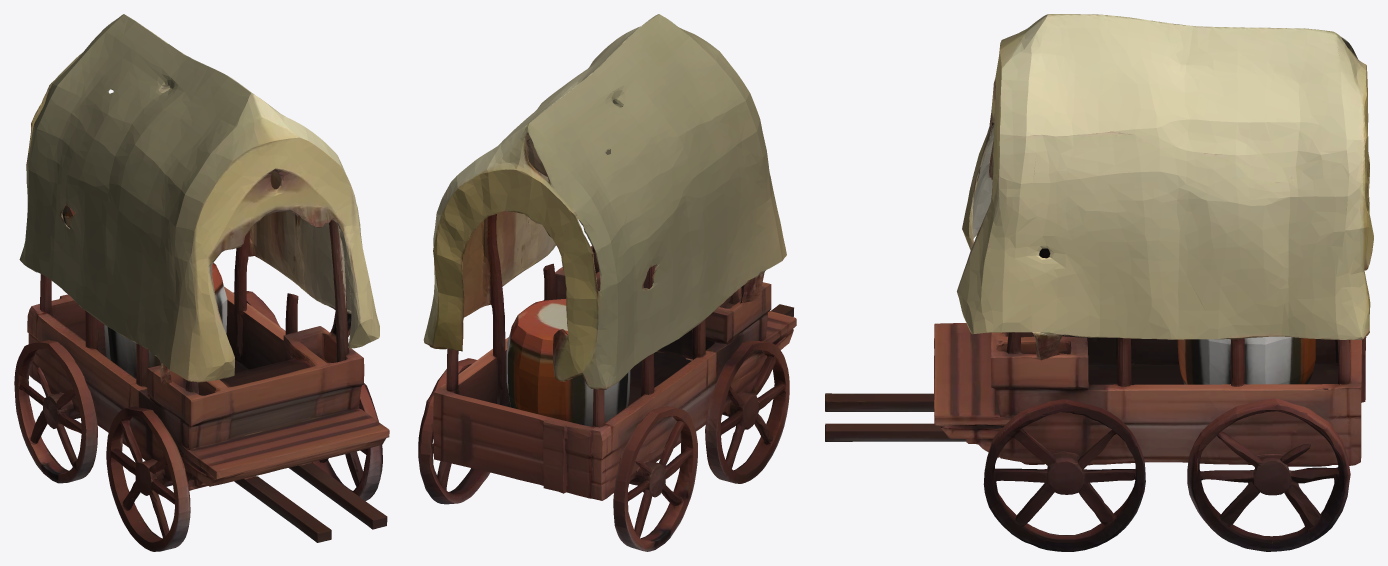
Rendered from partflow_t06.glb.
3 views of the same model, side by side, from view 1: azimuth 30°, elevation 25°; view 2: azimuth 150°, elevation 25°; view 3: azimuth 270°, elevation 25° (orthographic). The views are drawn at different scales.
Parts seen in each view (by area): view 1: geometry_0; view 2: geometry_0; view 3: geometry_0.
Part boxes in pixels (box(x1,y1,x2,y2)): geometry_0: box(14, 14, 389, 551); geometry_0: box(418, 14, 796, 551); geometry_0: box(825, 14, 1373, 551).
Size of the model in its own units: 0.9848 by 1.93 by 1.99.
Materials: 1 (1 with a texture image).
